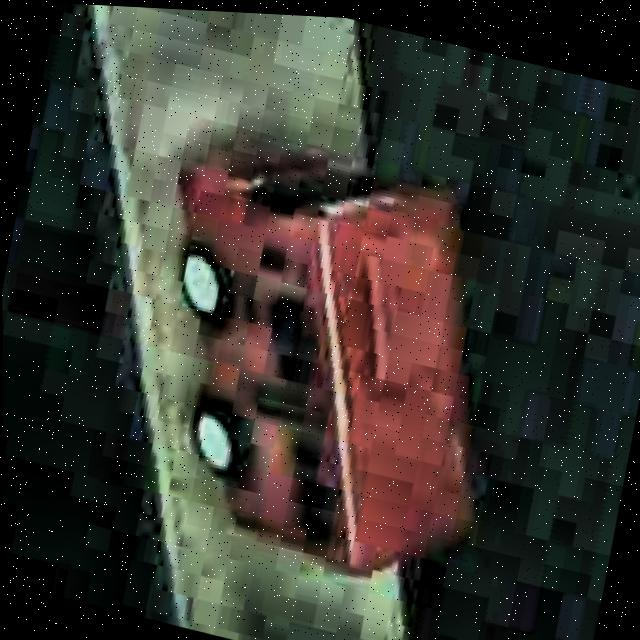bus: (107, 117, 539, 610)
